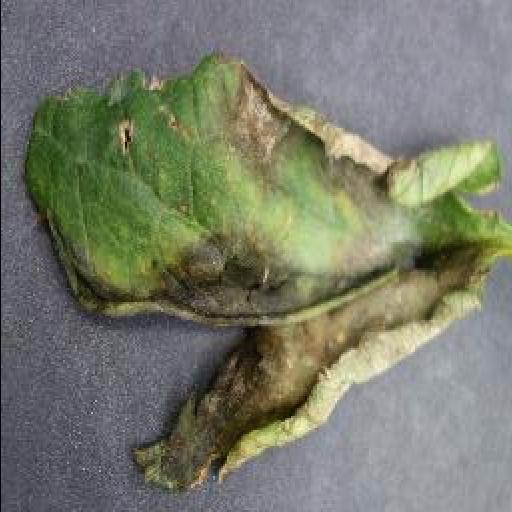disease_tomato: (14, 54, 510, 496)
